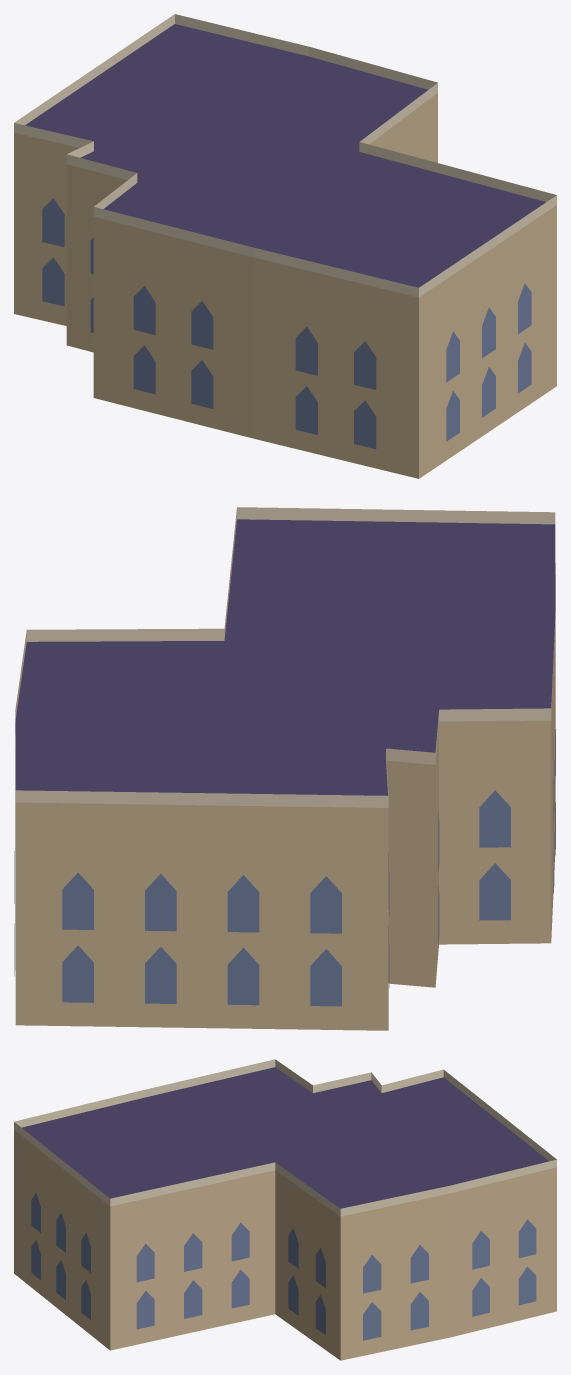
File: b-074-collip-medical-research-building-day.glb
3 views of the same model, one above another, from view 1: azimuth 30°, elevation 25°; view 2: azimuth 150°, elevation 25°; view 3: azimuth 270°, elevation 25° (orthographic). The views are drawn at different scales.
Visible parts, largest first — view 1: campus/b-074-collip-medical-research-building-day-0; view 2: campus/b-074-collip-medical-research-building-day-0; view 3: campus/b-074-collip-medical-research-building-day-0.
Part boxes in pixels (x1,y1,x2,y2): campus/b-074-collip-medical-research-building-day-0: [14, 14, 556, 478]; campus/b-074-collip-medical-research-building-day-0: [14, 507, 555, 1030]; campus/b-074-collip-medical-research-building-day-0: [14, 1059, 556, 1360].
Bounding box in the file's own units: 22.48 × 10.65 × 34.5.
